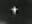person: (11, 6, 19, 17)
